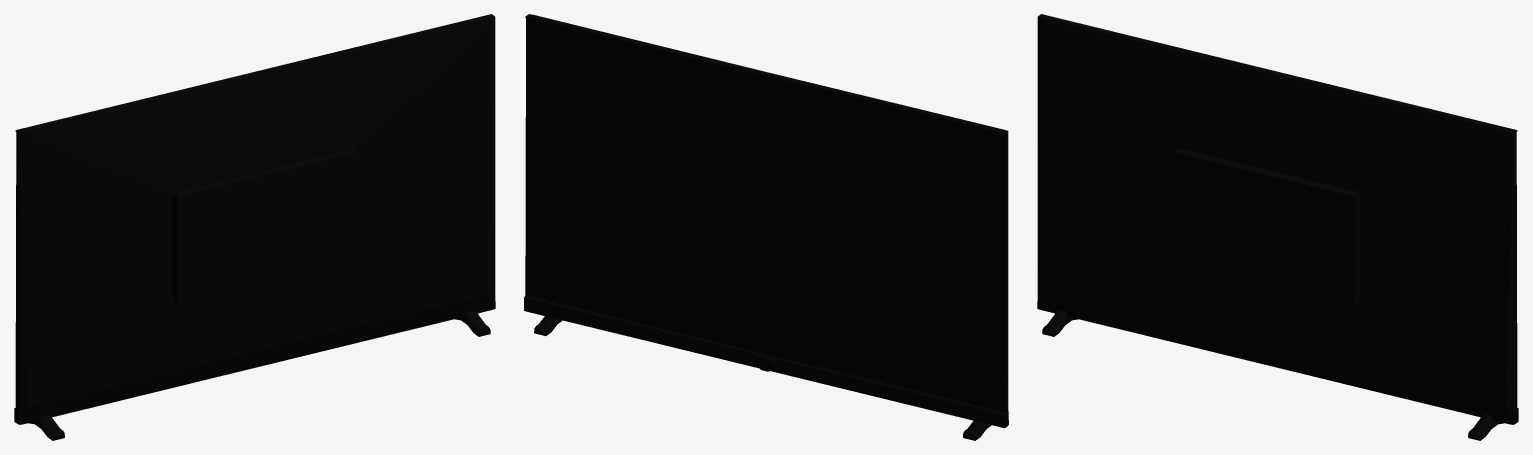
The picture shows the model from 3 angles, left to right: view 1: azimuth 30°, elevation 25°; view 2: azimuth 150°, elevation 25°; view 3: azimuth 330°, elevation 25°; orthographic projection.
Parts seen in each view (by area): view 1: TV01; view 2: TV01; view 3: TV01.
Part boxes in pixels (box(x1,y1,x2,y2)): TV01: box(14, 14, 495, 440); TV01: box(524, 14, 1008, 440); TV01: box(1037, 14, 1518, 440).
Bounding box in the file's own units: 97.56 × 59.03 × 10.08.
1 material, 1 textured.
